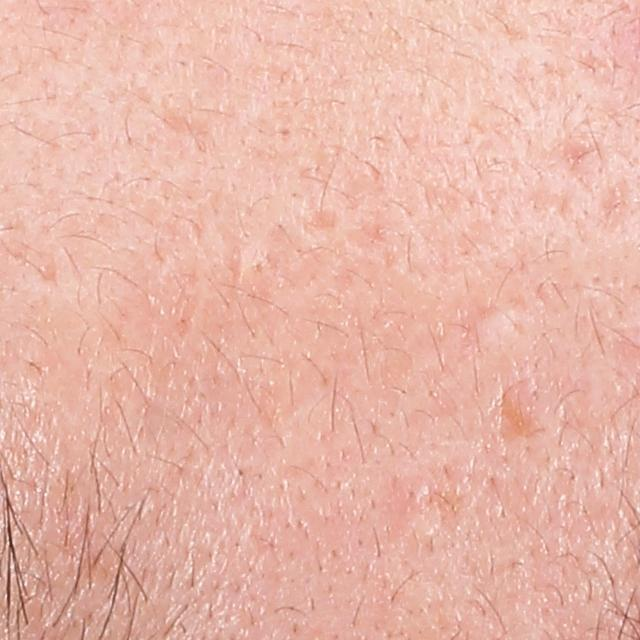atrophic_scar: (155, 93, 212, 156), (487, 380, 535, 451), (454, 303, 502, 358), (305, 208, 341, 232)
